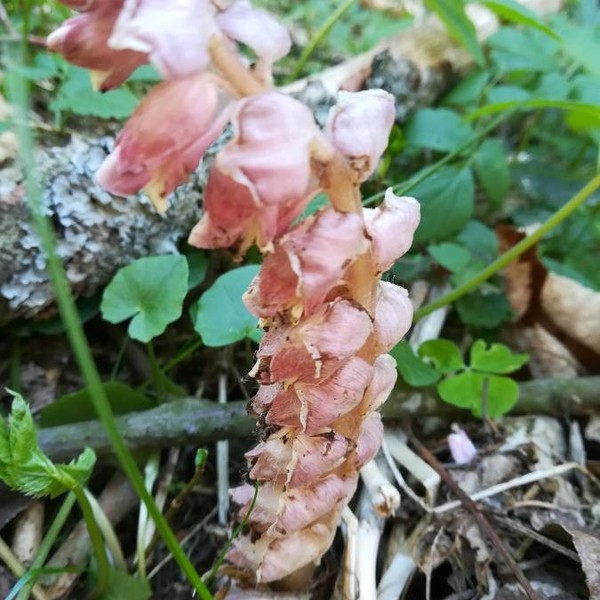obstacle: (69, 26, 409, 573)
